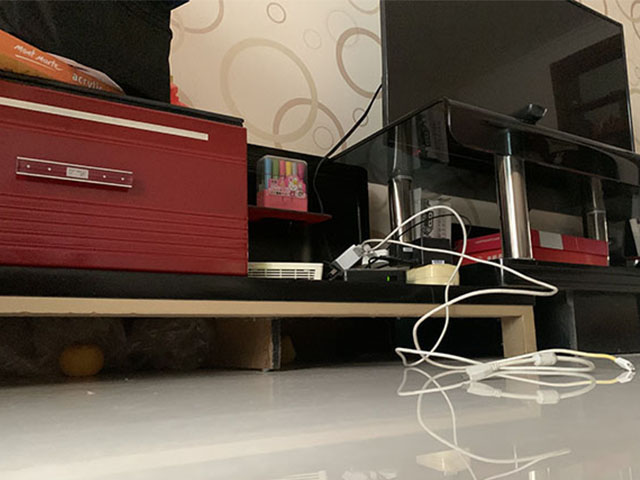cabinet: (1, 67, 640, 374)
wire: (325, 204, 640, 380)
